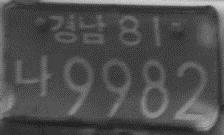1: (148, 14, 165, 46)
2: (171, 59, 210, 123)
8: (138, 59, 169, 118), (116, 14, 143, 46)
9: (98, 56, 133, 120), (60, 55, 95, 118)
경남_O: (46, 11, 108, 45)
나: (12, 52, 54, 99)
